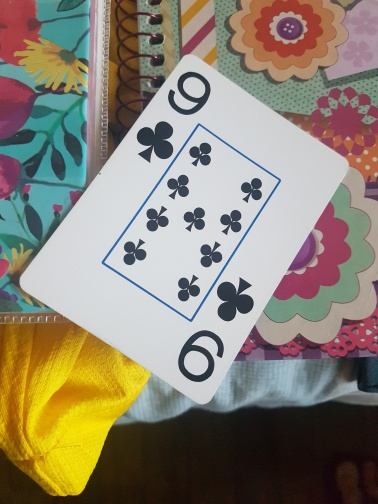nine: (19, 56, 349, 401)
